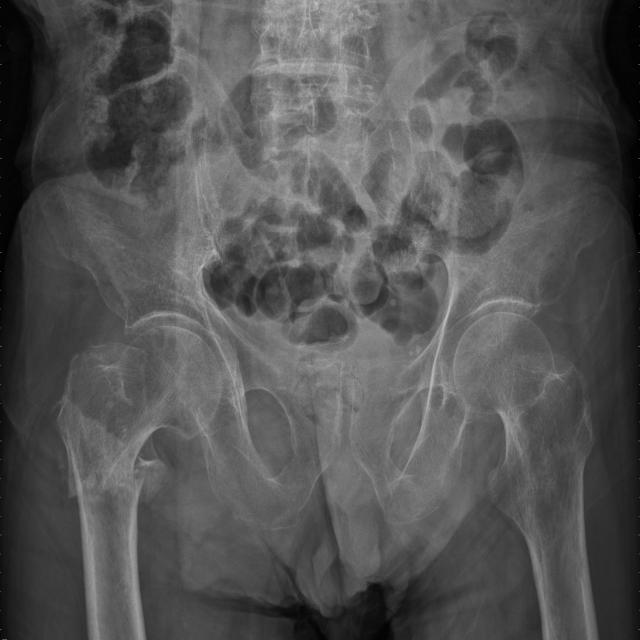normal-left: (453, 312, 599, 640)
right-lesser-trochanter: (135, 435, 170, 502)
right-subtrochanteric: (57, 325, 223, 499), (66, 400, 145, 562)
